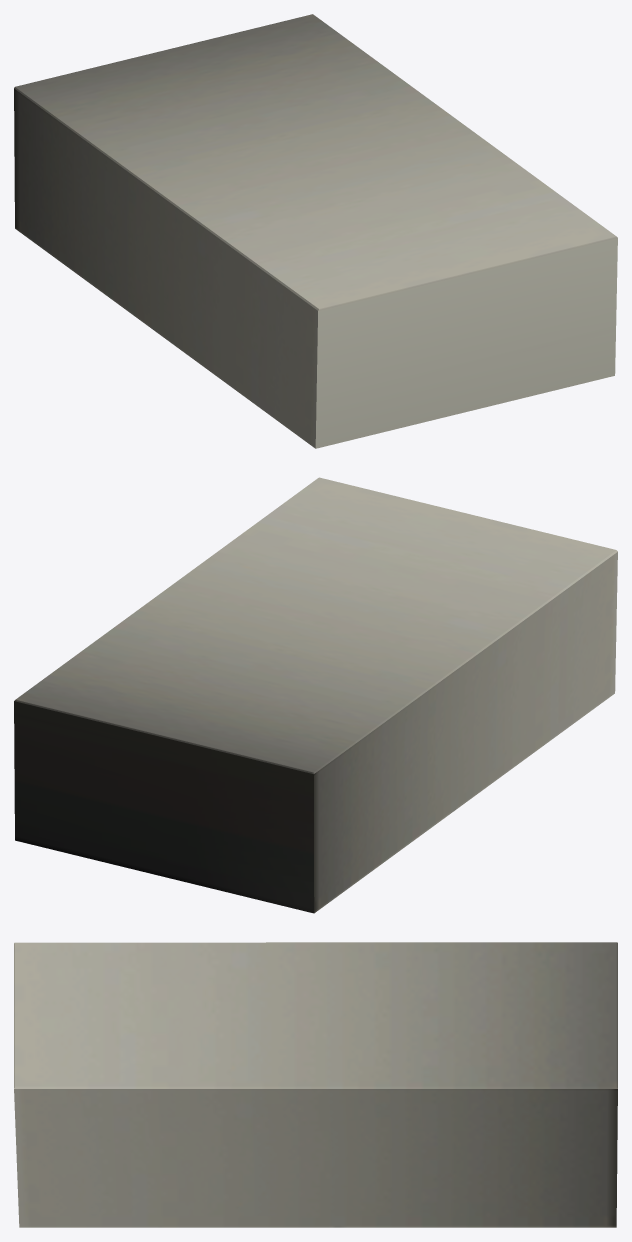
File: nt_2020_bookshelf_02_LOD1.obj
3 renders of one model, top to bottom at view 1: azimuth 30°, elevation 25°; view 2: azimuth 150°, elevation 25°; view 3: azimuth 270°, elevation 25°, orthographic.
Visible parts, largest first — view 1: mtl_nt_2020_bookshelf_02; view 2: mtl_nt_2020_bookshelf_02; view 3: mtl_nt_2020_bookshelf_02.
Part boxes in pixels (x1=…): mtl_nt_2020_bookshelf_02: x1=14, y1=14, x2=617, y2=448; mtl_nt_2020_bookshelf_02: x1=14, y1=477, x2=617, y2=913; mtl_nt_2020_bookshelf_02: x1=14, y1=942, x2=617, y2=1227.
Bounding box in the file's own units: 122 × 54.96 × 213.
